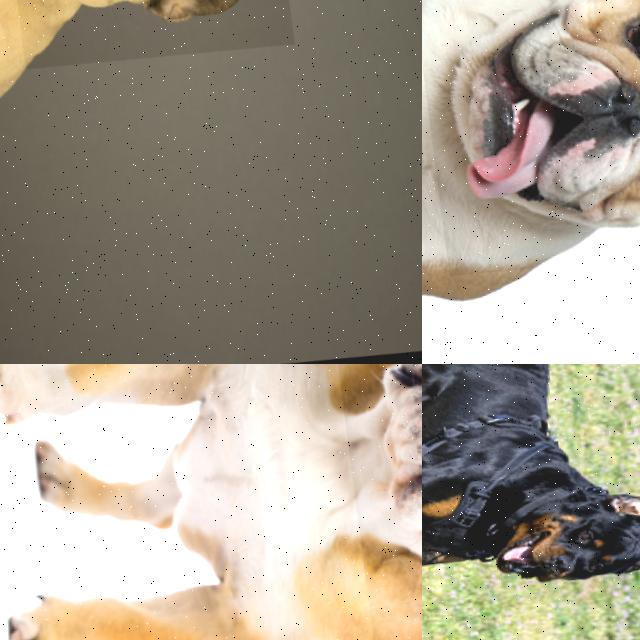bulldog: (422, 0, 640, 280), (327, 364, 422, 640), (0, 0, 292, 73)
rottweiler: (458, 452, 640, 613)
